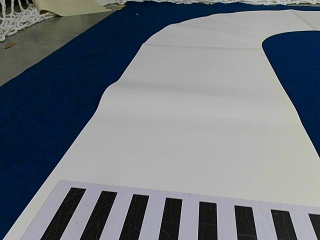crosswalk: (42, 187, 319, 239)
